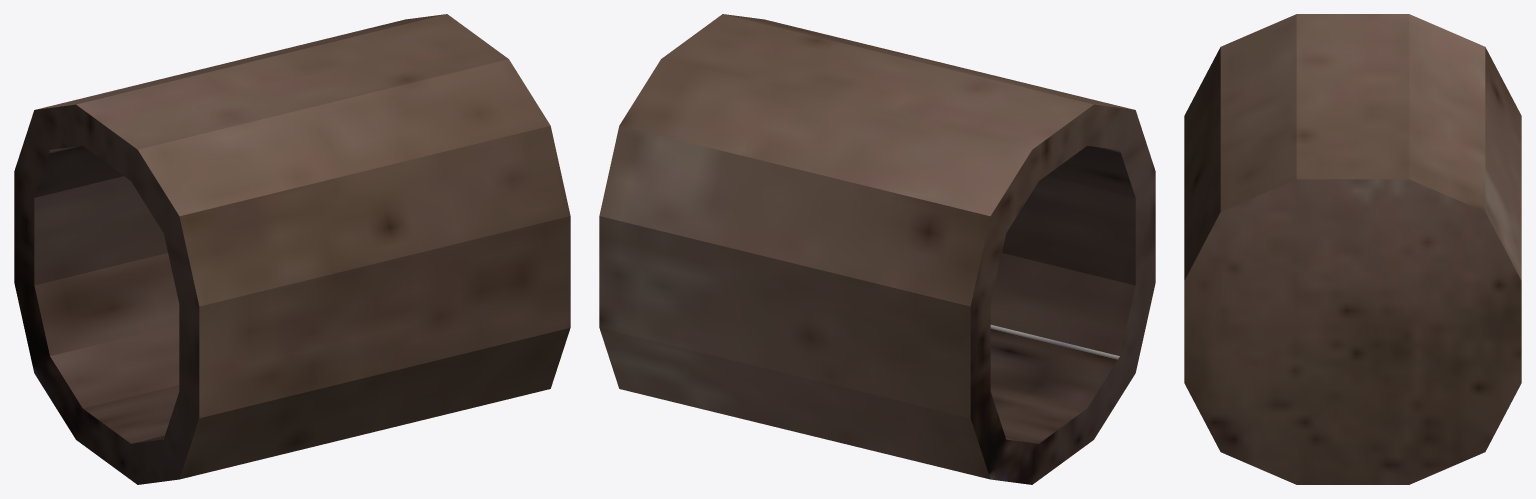
Rendered from Pipe.fbx.
The picture shows the model from 3 angles, left to right: view 1: azimuth 30°, elevation 25°; view 2: azimuth 150°, elevation 25°; view 3: azimuth 270°, elevation 25°; orthographic projection. The views are drawn at different scales.
Parts seen in each view (by area): view 1: Cube; view 2: Cube; view 3: Cube.
Boxes of the visible parts, x1=… form: Cube: x1=14, y1=14, x2=570, y2=484; Cube: x1=599, y1=14, x2=1155, y2=484; Cube: x1=1184, y1=14, x2=1521, y2=484.
Size of the model in its own units: 295 by 255 by 255.
1 material, 1 textured.
